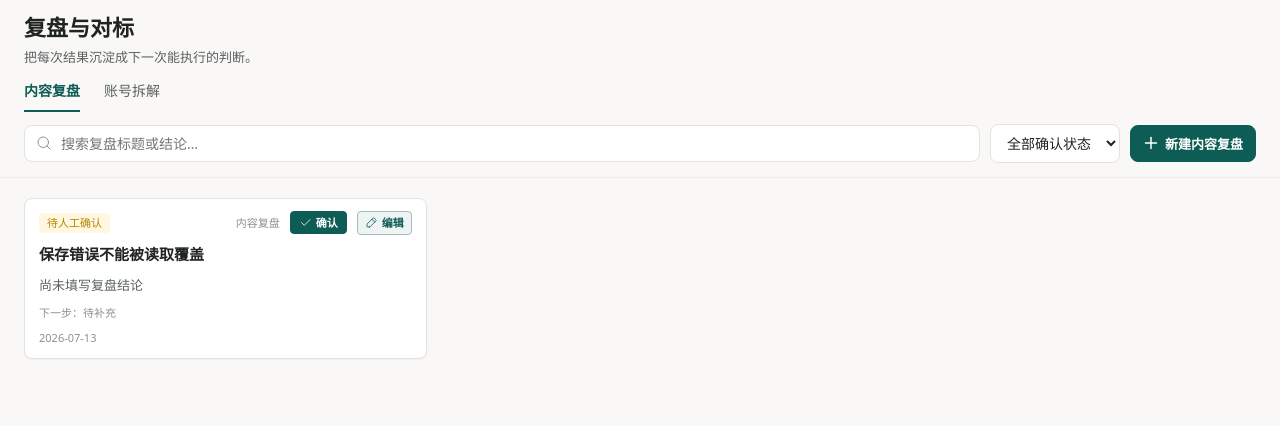
it: 复盘与对标工作台 › 迟到的复盘列表读取成功不会清除刚发生的保存错误
The image size is (1280, 426).
Expected: the heading "保存错误不能被读取覆盖" is shown, [39,244,204,264]
Click the button with aria-label "确认内容复盘：保存错误不能被读取覆盖" at (318,223), box [290,211,347,234]
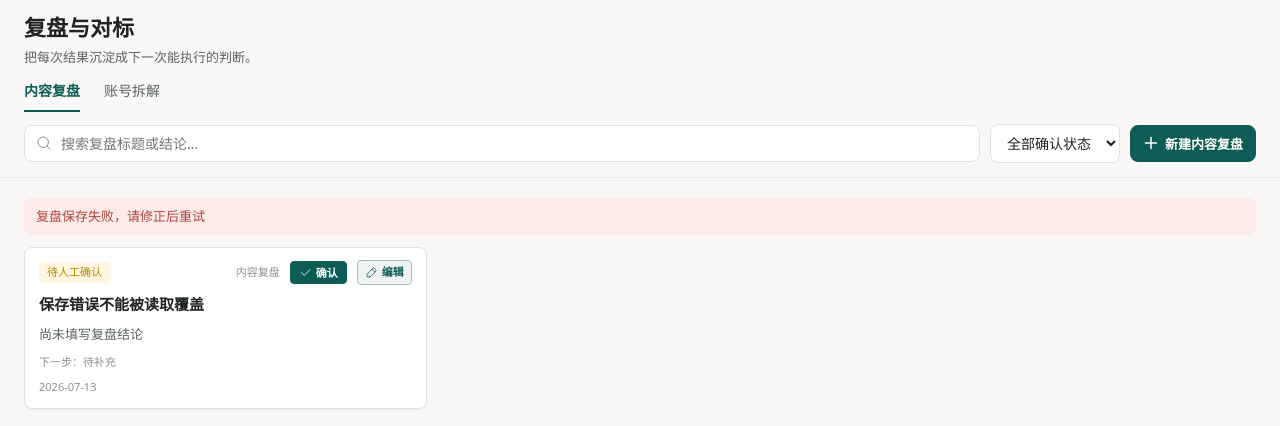
Result: the message reads "复盘保存失败，请修正后重试" at [36,206,205,224]
